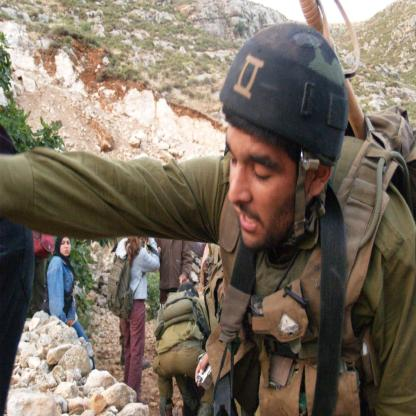Helmet: (215, 12, 349, 269)
